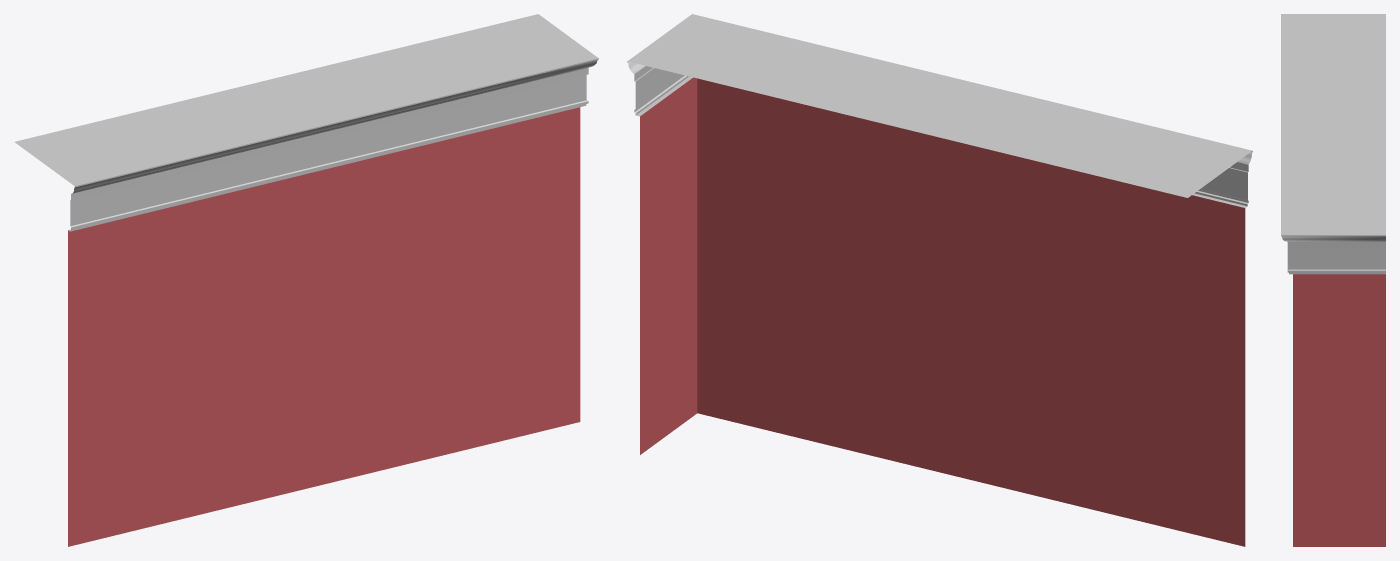
Rendered from station_wall_corner.fbx.
3 views of the same model, side by side, from view 1: azimuth 30°, elevation 25°; view 2: azimuth 150°, elevation 25°; view 3: azimuth 270°, elevation 25° (orthographic). The views are drawn at different scales.
Parts seen in each view (by area): view 1: wall_corner; view 2: wall_corner; view 3: wall_corner.
Boxes of the visible parts, <box> form: wall_corner: <box>14,14,598,546</box>; wall_corner: <box>627,14,1252,546</box>; wall_corner: <box>1281,14,1385,546</box>.
Bounding box in the file's own units: 2.25 × 1.5 × 0.4507.
